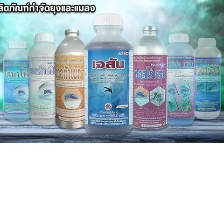insecticide: (79, 9, 136, 139), (130, 21, 169, 132), (52, 25, 91, 132), (26, 29, 65, 127), (159, 30, 197, 127), (189, 34, 223, 121), (1, 38, 35, 123)
